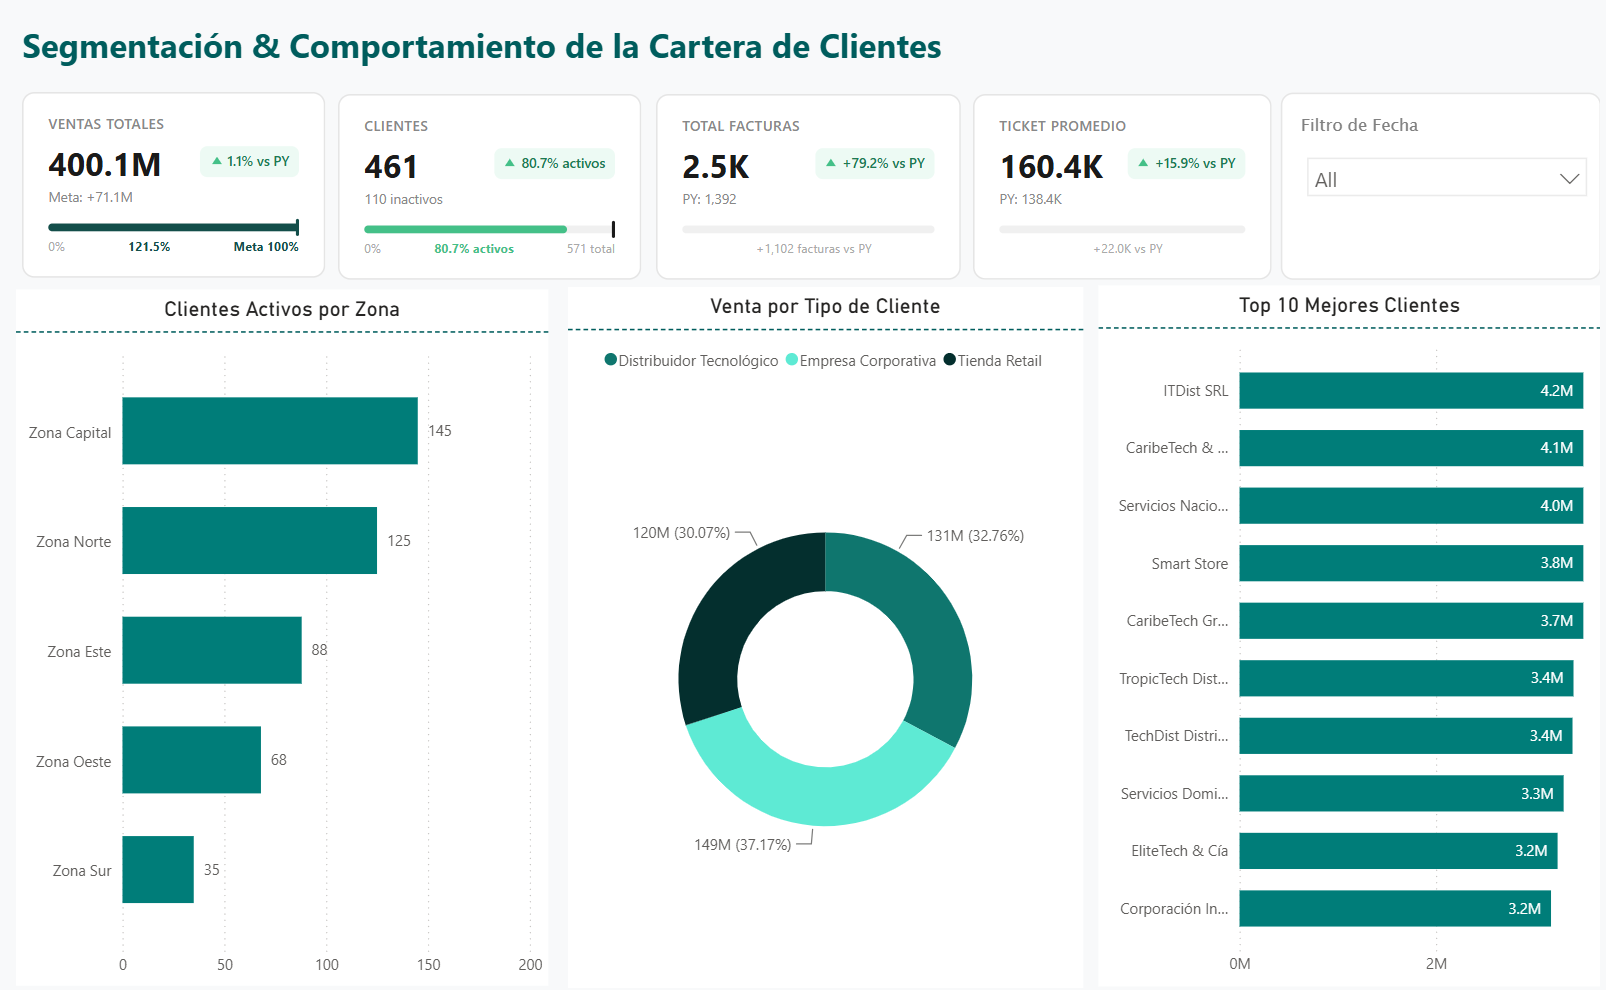

The dashboard page shown, as its layout file describes it:
{"tool":"powerbi","page":{"name":"Clientes","canvas":[1280,800],"ordinal":2},"visuals":[{"type":"clusteredBarChart","title":"Top 10 Mejores Clientes ","fields":{"Category":["DIM_CLIENTES.NombreCliente"],"Y":["_Medidas.Ventas Totales"]},"box":[874.3,231.4,405.7,565.7],"z":1000},{"type":"donutChart","title":"Venta por Tipo de Cliente","fields":{"Category":["DIM_CLIENTES.TipoCliente"],"Y":["_Medidas.Ventas Totales"]},"box":[445.7,232.9,415.7,565.7],"z":2000},{"type":"textbox","box":[0,13.8,818.8,47.5],"z":3000},{"type":"htmlContent443BE3AD55E043BF878BED274D3A6855","fields":{"content":["_Medidas.KPI Ventas HTML"]},"box":[0,69.7,255.5,161.5],"z":4000},{"type":"htmlContent443BE3AD55E043BF878BED274D3A6855","fields":{"content":["_Medidas.KPI Ticket Promedio HTML"]},"box":[767.9,71.8,251.8,159.6],"z":5000},{"type":"htmlContent443BE3AD55E043BF878BED274D3A6855","fields":{"content":["_Medidas.KPI Clientes HTML"]},"box":[255.4,71.8,255.4,161.4],"z":6000},{"type":"htmlContent443BE3AD55E043BF878BED274D3A6855","fields":{"content":["_Medidas.KPI Facturas HTML"]},"box":[511.6,71.8,256.3,161.4],"z":7000},{"type":"slicer","title":"Filtro de Fecha","fields":{"Values":["DIM_FECHAS.Fecha.Variation.Date Hierarchy.Year","DIM_FECHAS.Fecha.Variation.Date Hierarchy.Month"]},"box":[1021.5,75.4,258.9,150.7],"z":8000},{"type":"clusteredBarChart","title":"Clientes Activos por Zona","fields":{"Category":["DIM_CLIENTES.Zona"],"Y":["_Medidas.Clientes Activos"]},"box":[0,234.3,430,562.9],"z":10000}]}

Visuals, with their boxes in screenshot pixels (x1, y1, x2, y2), scaled from the page's 1280x800 canvas onto the 1606x990 screenshot:
"Top 10 Mejores Clientes " clusteredBarChart: (1097,286,1605,986)
"Venta por Tipo de Cliente" donutChart: (559,288,1081,988)
textbox: (0,17,1027,76)
htmlContent443BE3AD55E043BF878BED274D3A6855 - _Medidas.KPI Ventas HTML: (0,86,321,286)
htmlContent443BE3AD55E043BF878BED274D3A6855 - _Medidas.KPI Ticket Promedio HTML: (963,89,1279,286)
htmlContent443BE3AD55E043BF878BED274D3A6855 - _Medidas.KPI Clientes HTML: (320,89,641,289)
htmlContent443BE3AD55E043BF878BED274D3A6855 - _Medidas.KPI Facturas HTML: (642,89,963,289)
"Filtro de Fecha" slicer: (1282,93,1605,280)
"Clientes Activos por Zona" clusteredBarChart: (0,290,540,987)
